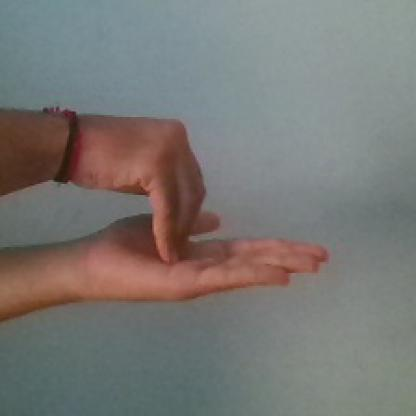Z: (69, 98, 336, 311)
